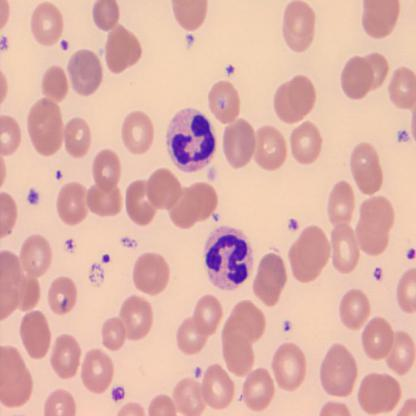Segmented neutrophil: (164, 106, 218, 174), (201, 224, 254, 291)
